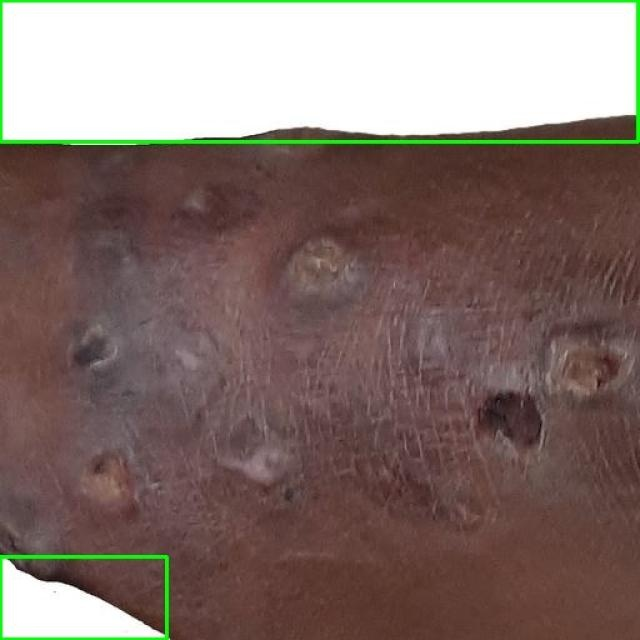Eczema: (0, 0, 639, 142), (0, 556, 166, 639)
